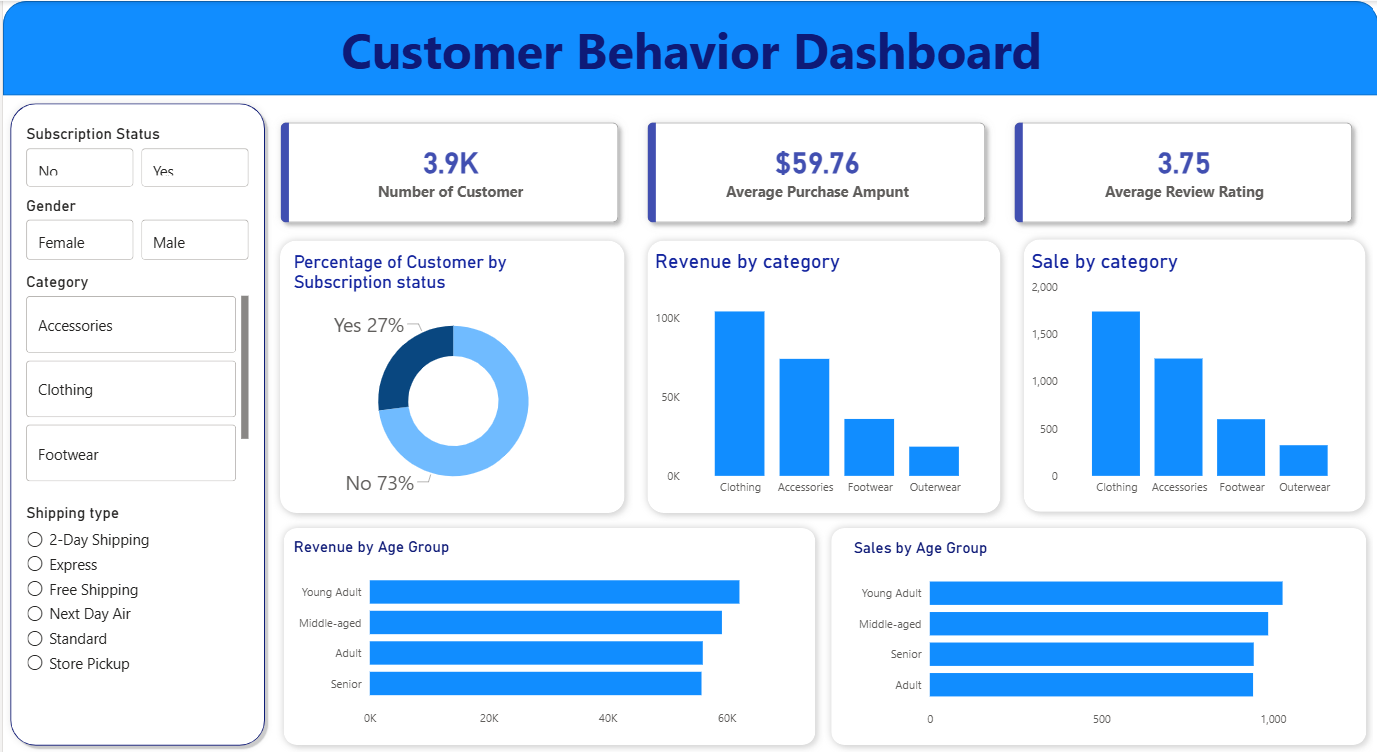

What the dashboard file says about the page in this screenshot:
{"tool":"powerbi","page":{"name":"Page 1","canvas":[1500,820],"ordinal":0},"visuals":[{"type":"cardVisual","fields":{"Data":["public customer.Number of Customer","public customer.Average Purchase Ampunt","public customer.Average Review Rating"]},"box":[273.6,103,1226.7,167.6],"z":0},{"type":"shape","box":[0,0,1500.3,103],"z":1000},{"type":"textbox","box":[0,12.9,1501.1,90.4],"z":2000},{"type":"shape","box":[293.6,252.1,393.5,315.1],"z":3000},{"type":"donutChart","title":"Percentage of Customer by Subscription status","fields":{"Category":["public customer.subscription_status"],"Y":["Count(public customer.customer_id)"]},"box":[312.1,273.6,358.2,276.7],"z":4000},{"type":"shape","box":[693.3,252.1,402.7,315.1],"z":5000},{"type":"shape","box":[1103.7,250.6,390.5,315.1],"z":6000},{"type":"clusteredColumnChart","title":"Revenue by category","fields":{"Y":["Sum(public customer.purchase_amount)"],"Category":["public customer.category"]},"box":[705.6,270.5,372,276.7],"z":7000},{"type":"clusteredColumnChart","title":"Sale by category","fields":{"Y":["CountNonNull(public customer.customer_id)"],"Category":["public customer.category"]},"box":[1116,270.5,362.8,276.7],"z":8000},{"type":"shape","box":[0,103,293.6,716.3],"z":9000},{"type":"advancedSlicerVisual","fields":{"Values":["public customer.subscription_status"]},"box":[20.3,134.6,252.6,73.8],"z":10000},{"type":"advancedSlicerVisual","fields":{"Values":["public customer.gender"]},"box":[20.3,212.1,252.6,75.6],"z":11000},{"type":"advancedSlicerVisual","fields":{"Values":["public customer.category"]},"box":[20.3,295.1,252.6,234.2],"z":12000},{"type":"listSlicer","fields":{"Values":["public customer.shipping_type"]},"box":[20.3,547.7,252.6,252.6],"z":13000},{"type":"shape","box":[296.9,566.1,597.5,254.5],"z":14001},{"type":"shape","box":[894.4,566.1,601.2,254.5],"z":14002},{"type":"clusteredBarChart","title":"Sales by Age Group","fields":{"Category":["public customer.age_group"],"Y":["CountNonNull(public customer.customer_id)"]},"box":[922.1,586.4,556.9,215.8],"z":14003},{"type":"clusteredBarChart","title":"Revenue by Age Group","fields":{"Category":["public customer.age_group"],"Y":["Sum(public customer.purchase_amount)"]},"box":[311.7,584.6,556.9,215.8],"z":14004}]}

Visuals, with their boxes in screenshot pixels (x1, y1, x2, y2), scaled from the page's 1500x820 canvas onto the 1377x752 screenshot:
cardVisual - public customer.Number of Customer x public customer.Average Purchase Ampunt: (x1=251, y1=94, x2=1376, y2=248)
shape: (x1=0, y1=0, x2=1376, y2=94)
textbox: (x1=0, y1=12, x2=1376, y2=95)
shape: (x1=270, y1=231, x2=631, y2=520)
"Percentage of Customer by Subscription status" donutChart: (x1=287, y1=251, x2=615, y2=505)
shape: (x1=636, y1=231, x2=1006, y2=520)
shape: (x1=1013, y1=230, x2=1372, y2=519)
"Revenue by category" clusteredColumnChart: (x1=648, y1=248, x2=989, y2=502)
"Sale by category" clusteredColumnChart: (x1=1024, y1=248, x2=1358, y2=502)
shape: (x1=0, y1=94, x2=270, y2=751)
advancedSlicerVisual - public customer.subscription_status: (x1=19, y1=123, x2=251, y2=191)
advancedSlicerVisual - public customer.gender: (x1=19, y1=195, x2=251, y2=264)
advancedSlicerVisual - public customer.category: (x1=19, y1=271, x2=251, y2=485)
listSlicer - public customer.shipping_type: (x1=19, y1=502, x2=251, y2=734)
shape: (x1=273, y1=519, x2=821, y2=751)
shape: (x1=821, y1=519, x2=1373, y2=751)
"Sales by Age Group" clusteredBarChart: (x1=846, y1=538, x2=1358, y2=736)
"Revenue by Age Group" clusteredBarChart: (x1=286, y1=536, x2=797, y2=734)
